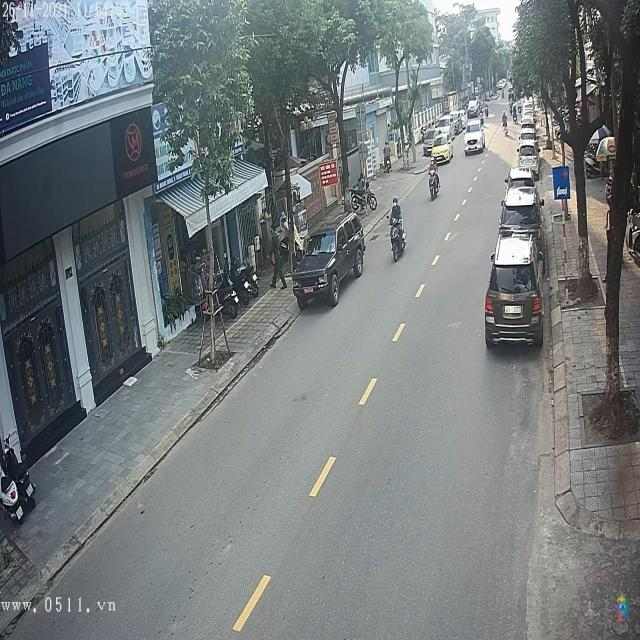car: (291, 204, 366, 312), (485, 233, 543, 348), (499, 189, 543, 239), (464, 123, 486, 156)
motorcycle: (389, 218, 408, 263), (428, 170, 441, 202)
